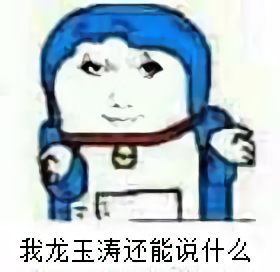dragon: (80, 55, 165, 125)
